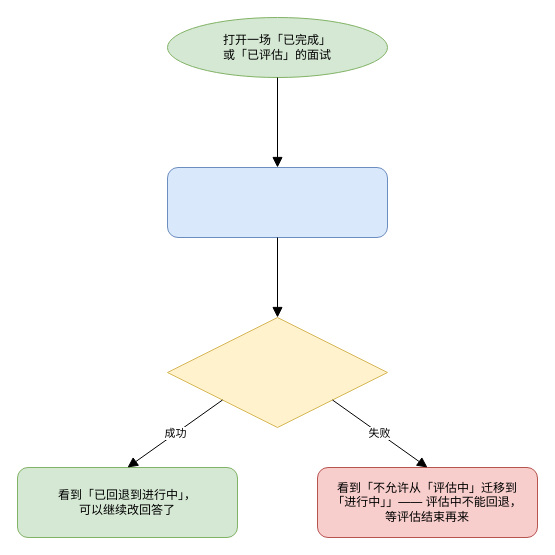
Some shapes in this 555 by 555 pixel diagram are drawn without their labels. Here are the shapes that lost their labels. From the top down, the box of each, then its label:
(166, 166, 388, 238): 点页头右上角的 「回退到进行中」
(166, 316, 388, 428): 成功了吗？
